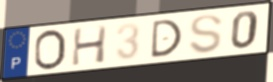0: (229, 9, 260, 51)
3: (115, 22, 143, 62)
D: (149, 18, 184, 60)
H: (70, 24, 109, 68)
O: (32, 28, 68, 72)
S: (187, 13, 225, 56)
